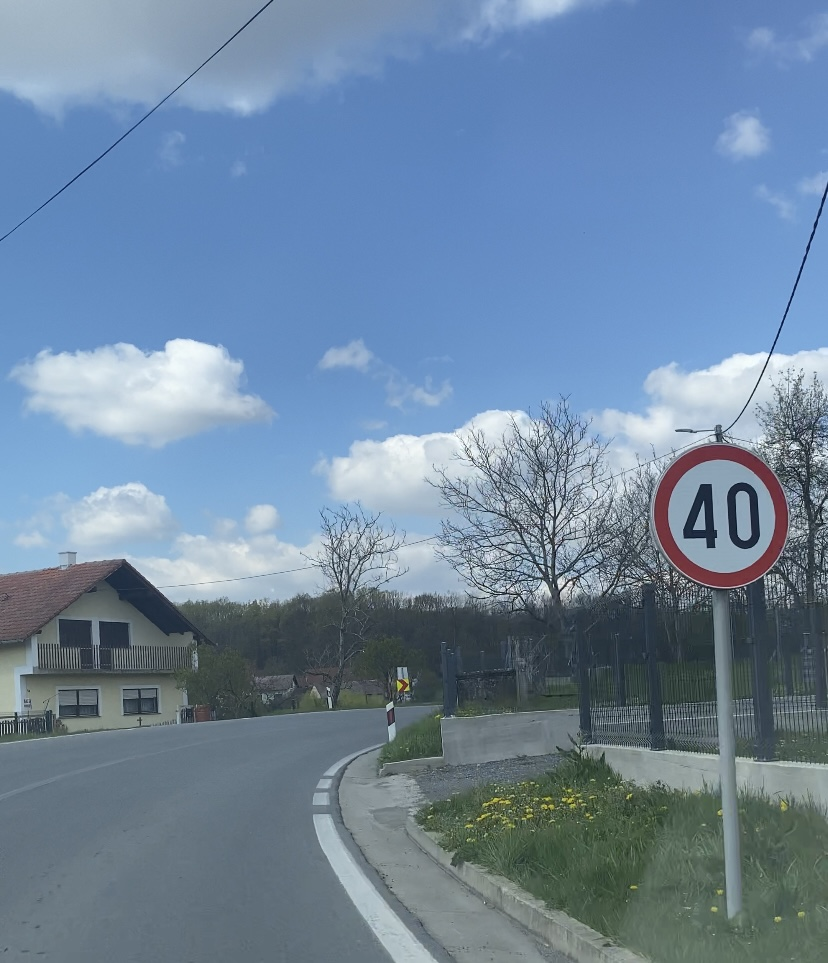Ograničenje brzine 40: (650, 442, 790, 590)
